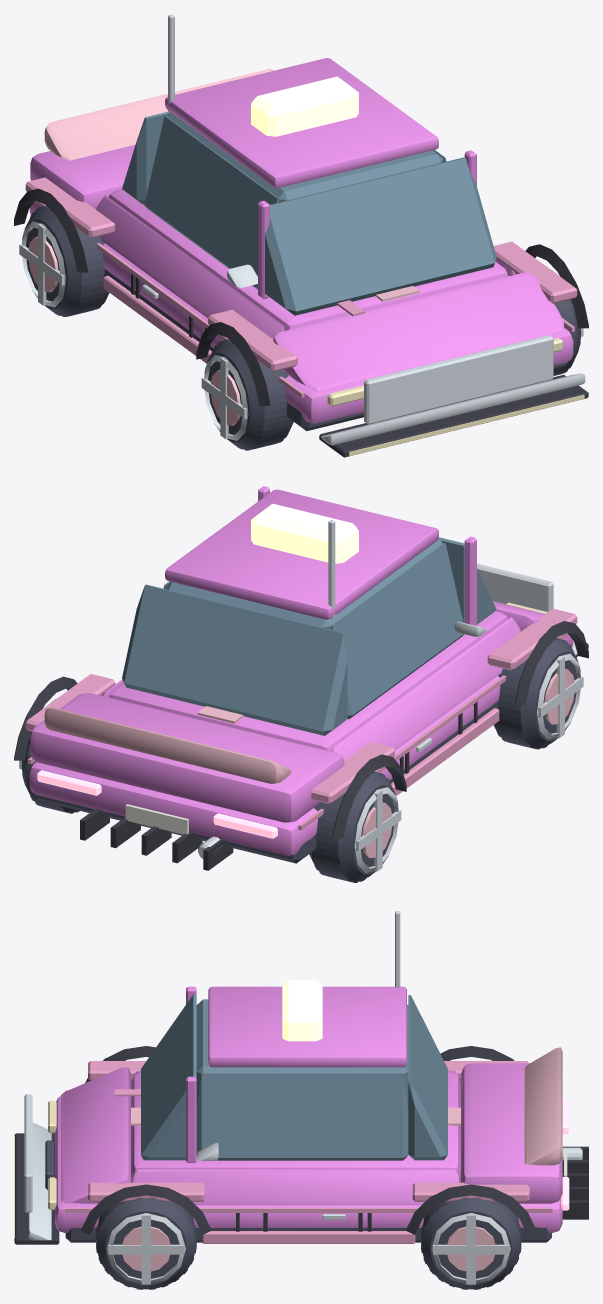
The model's file is rainy_commuter.fbx.
3 renders of one model, top to bottom at view 1: azimuth 30°, elevation 25°; view 2: azimuth 150°, elevation 25°; view 3: azimuth 270°, elevation 25°, orthographic. The views are drawn at different scales.
Parts seen in each view (by area): view 1: Body, Glass, Metal, Accent, Trim, Accent3, Light4, Accent2, Wheel_FR, Wheel_RR, Light, Metal2 (+2 smaller); view 2: Body, Glass, Trim, Accent, Metal, Accent3, Light4, Wheel_RR, Wheel_FR, Trim2, Light2, Metal2 (+3 smaller); view 3: Body, Glass, Accent, Trim, Metal, Wheel_FL, Wheel_RL, Accent3, Accent2, Light4, Metal2, Trim2 (+2 smaller).
Boxes of the visible parts, bbox=[...] form: Body: bbox=[29, 58, 573, 423]; Glass: bbox=[122, 111, 496, 315]; Metal: bbox=[19, 221, 583, 440]; Accent: bbox=[25, 177, 577, 397]; Trim: bbox=[14, 188, 588, 457]; Accent3: bbox=[44, 68, 274, 160]; Light4: bbox=[251, 76, 358, 136]; Accent2: bbox=[168, 14, 585, 445]; Wheel_FR: bbox=[204, 339, 293, 450]; Wheel_RR: bbox=[22, 205, 109, 316]; Light: bbox=[327, 338, 584, 455]; Metal2: bbox=[28, 236, 240, 425]; Body: bbox=[29, 486, 573, 855]; Glass: bbox=[122, 537, 496, 735]; Trim: bbox=[14, 621, 588, 870]; Accent: bbox=[25, 608, 577, 830]; Metal: bbox=[19, 563, 583, 873]; Accent3: bbox=[44, 707, 291, 783]; Light4: bbox=[251, 503, 358, 563]; Wheel_RR: bbox=[309, 771, 398, 882]; Wheel_FR: bbox=[493, 638, 580, 749]; Trim2: bbox=[34, 701, 498, 863]; Light2: bbox=[37, 770, 277, 838]; Metal2: bbox=[362, 669, 574, 858]; Body: bbox=[55, 986, 562, 1232]; Glass: bbox=[141, 994, 447, 1160]; Accent: bbox=[65, 1061, 552, 1243]; Trim: bbox=[14, 1046, 588, 1244]; Metal: bbox=[24, 1094, 582, 1284]; Wheel_FL: bbox=[96, 1197, 196, 1289]; Wheel_RL: bbox=[421, 1197, 521, 1289]; Accent3: bbox=[196, 1047, 562, 1165]; Accent2: bbox=[28, 911, 400, 1240]; Light4: bbox=[282, 980, 322, 1041]; Metal2: bbox=[122, 1226, 495, 1271]; Trim2: bbox=[45, 1140, 551, 1242].
Bounding box in the file's own units: 3.3 × 2.88 × 5.44.
